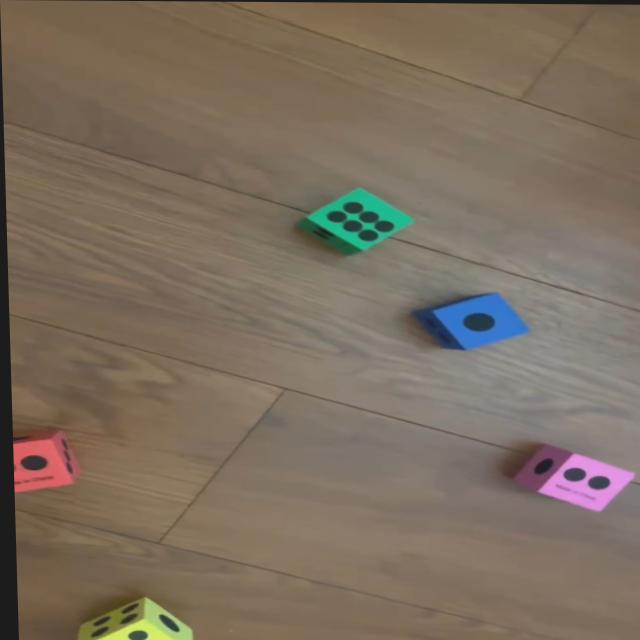blue_block: (416, 289, 529, 348)
red_block: (10, 428, 75, 492)
